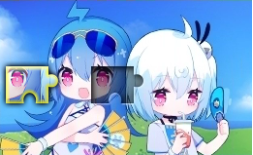gap: (91, 66, 144, 104)
